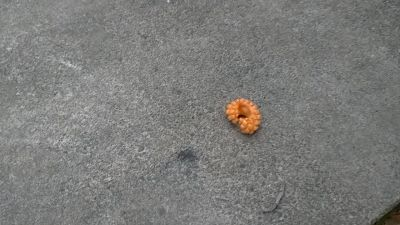eggs: (224, 95, 265, 136)
